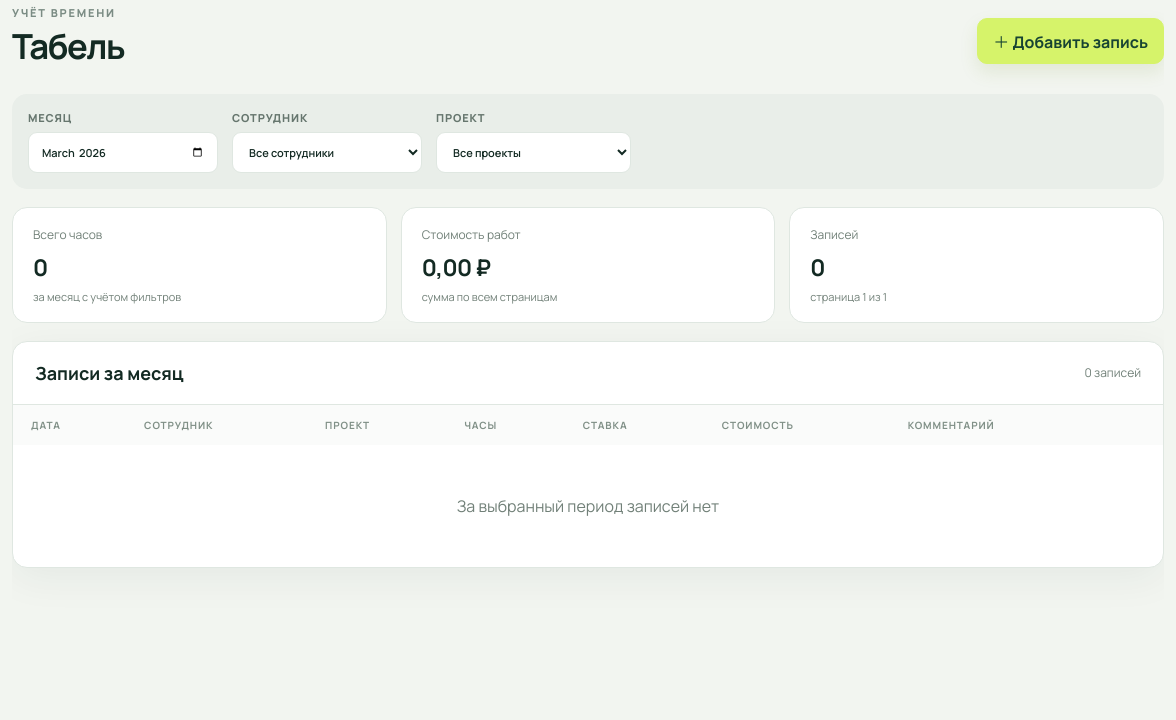
Test: EntriesPage › tells an over-filtered month apart from an empty one
Expected: the text "За выбранный период записей нет" is shown, top-left (457, 495), bottom-right (719, 517)
Select "Иванов И. И." in the dropdown labelled "Сотрудник" at x=327, y=152, box top-left (232, 132), bottom-right (422, 173)
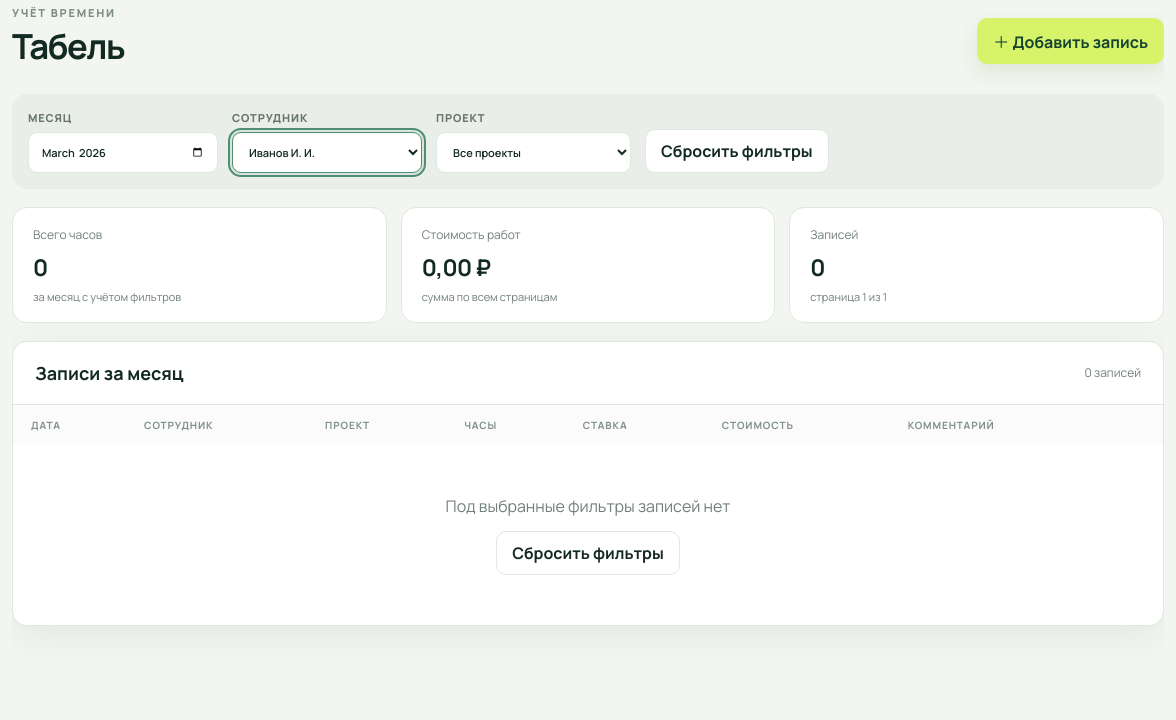
Now the text "Под выбранные фильтры записей нет" is shown, box top-left (446, 495), bottom-right (730, 517)
